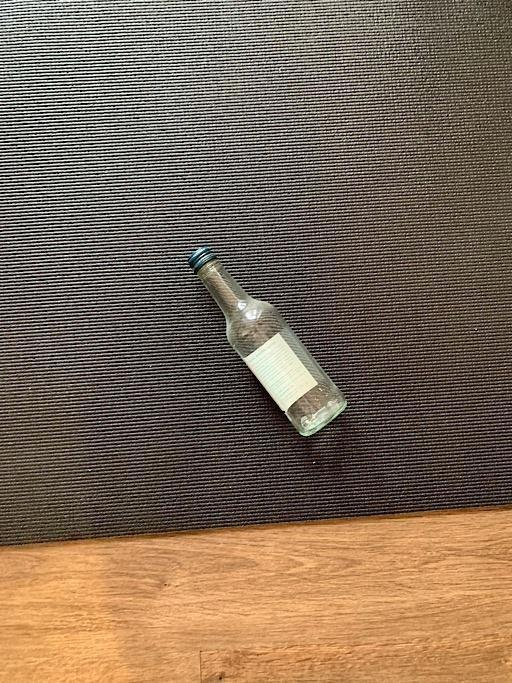bottle-glass: (187, 246, 346, 440)
